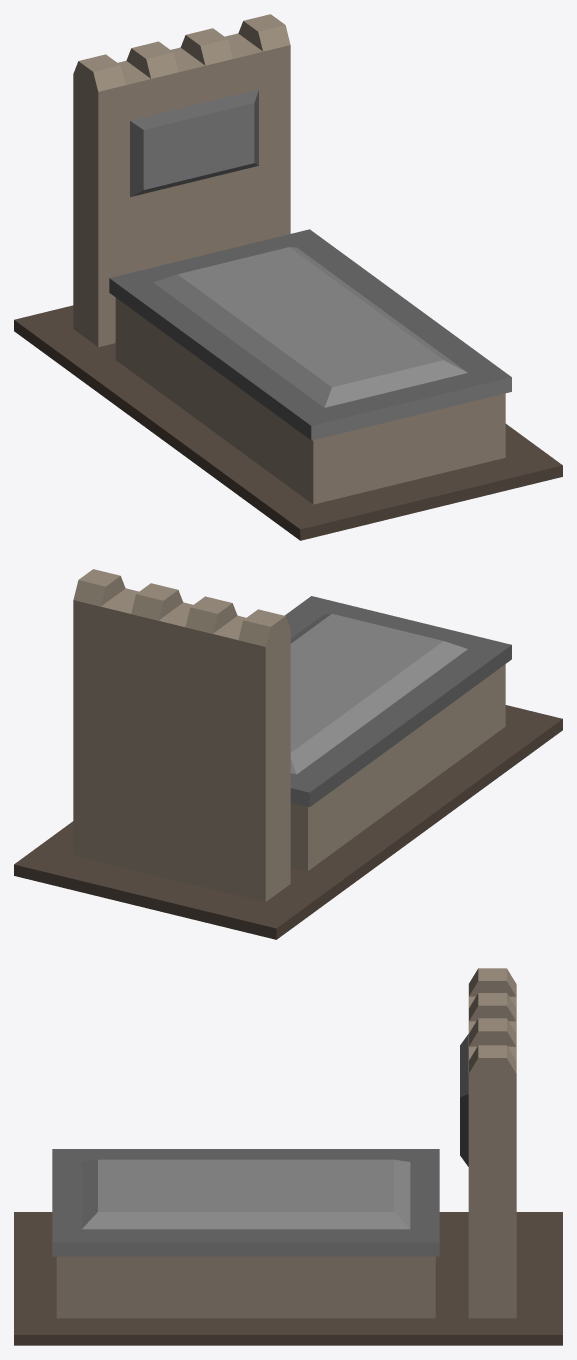
File: HWN20_Grave_09.gltf
3 renders of one model, top to bottom at view 1: azimuth 30°, elevation 25°; view 2: azimuth 150°, elevation 25°; view 3: azimuth 270°, elevation 25°, orthographic. The views are drawn at different scales.
Parts seen in each view (by area): view 1: HWN20_Grave_glb; view 2: HWN20_Grave_glb; view 3: HWN20_Grave_glb.
Boxes of the visible parts, <box> form: HWN20_Grave_glb: <box>14,14,562,540</box>; HWN20_Grave_glb: <box>14,569,562,939</box>; HWN20_Grave_glb: <box>14,968,562,1345</box>.
Size of what is drawn, in the model's own units: 1.2 by 1.24 by 2.27.
1 material, 1 textured.
